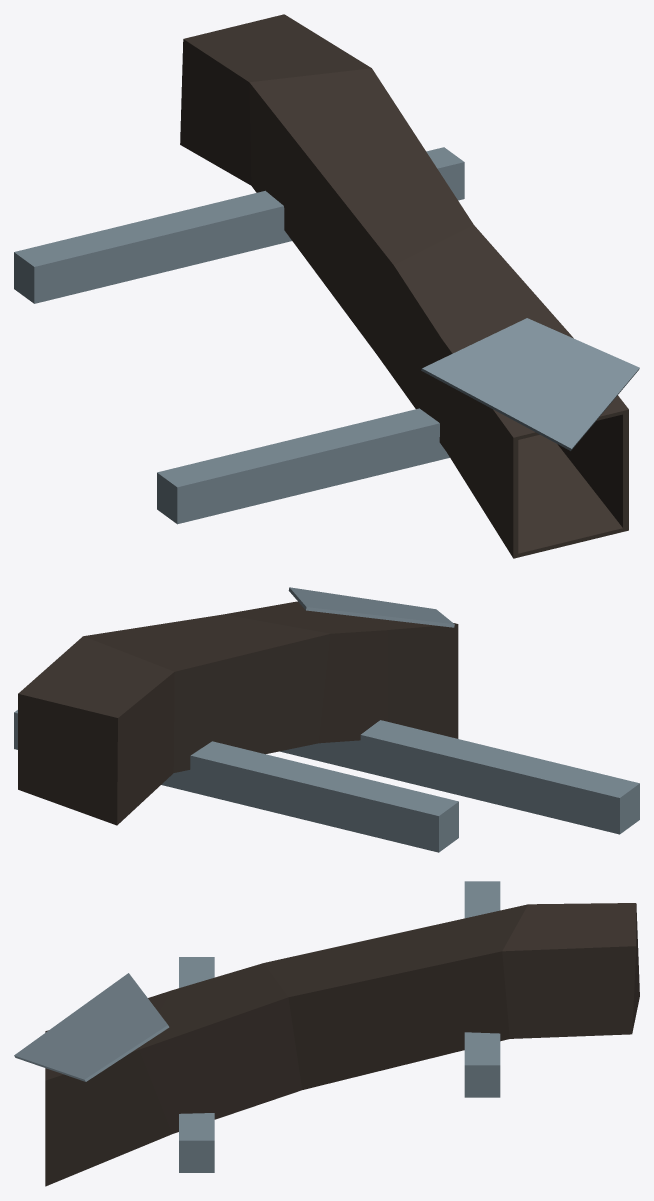
The model's file is Tuyau.fbx.
3 views of the same model, one above another, from view 1: azimuth 30°, elevation 25°; view 2: azimuth 150°, elevation 25°; view 3: azimuth 270°, elevation 25° (orthographic). The views are drawn at different scales.
Visible parts, largest first — view 1: Cube.005; view 2: Cube.005; view 3: Cube.005.
Part boxes in pixels (x1,y1,x2,y2): Cube.005: (14,14,639,558); Cube.005: (14,587,639,852); Cube.005: (14,881,639,1186).
Size of the model in its own units: 890 by 513 by 1224.
